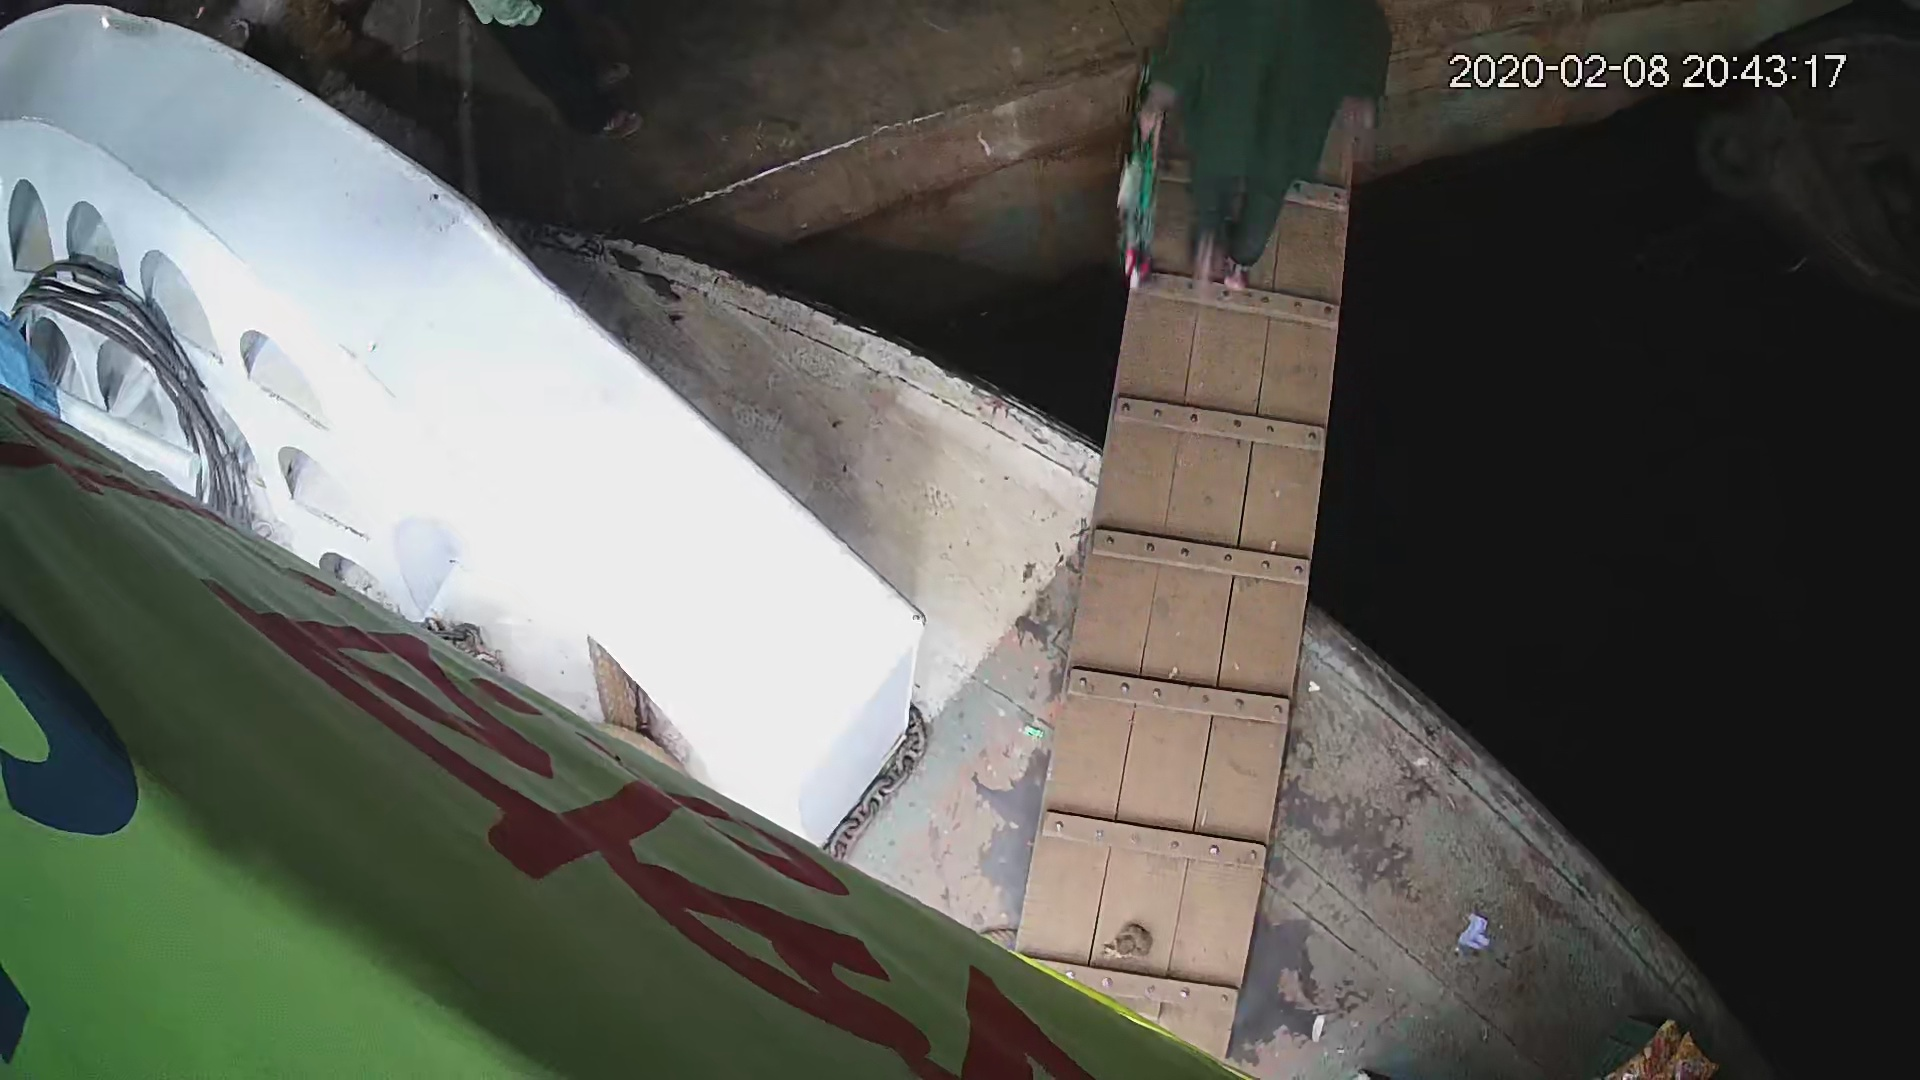person: (1123, 1, 1395, 303)
